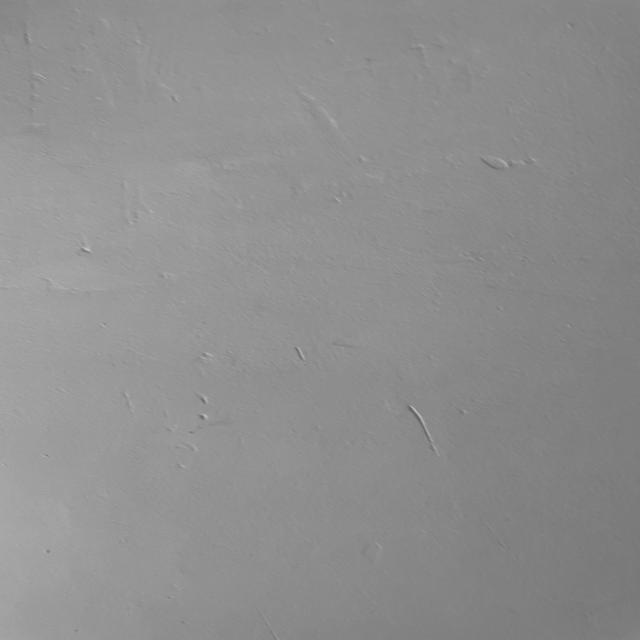rough and patchy surface: (29, 7, 584, 568)
